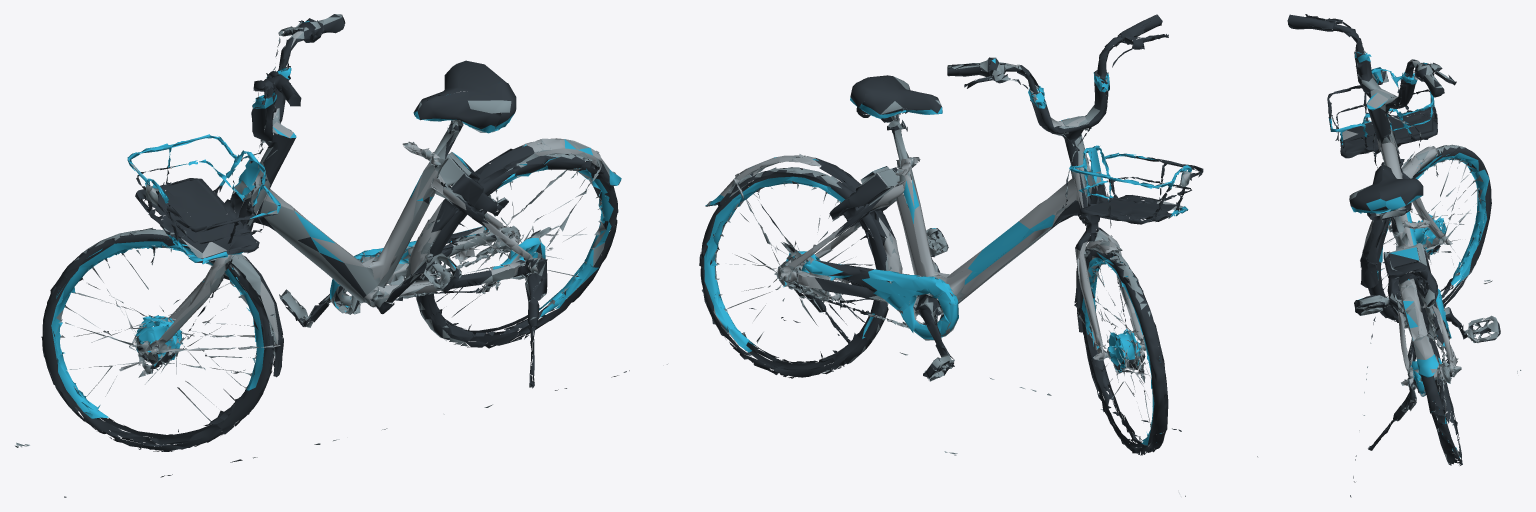
Rendered from xinhua-shared-bicycle-visible-low.glb.
3 renders of one model, left to right at view 1: azimuth 30°, elevation 25°; view 2: azimuth 150°, elevation 25°; view 3: azimuth 270°, elevation 25°, orthographic. The views are drawn at different scales.
Parts seen in each view (by area): view 1: XinhuaSharedBicycle; view 2: XinhuaSharedBicycle; view 3: XinhuaSharedBicycle.
Boxes of the visible parts, <box> form: XinhuaSharedBicycle: <box>15,14,667,497</box>; XinhuaSharedBicycle: <box>699,14,1257,496</box>; XinhuaSharedBicycle: <box>1287,14,1521,497</box>.
Bounding box in the file's own units: 0.6054 × 0.4023 × 0.2608.
